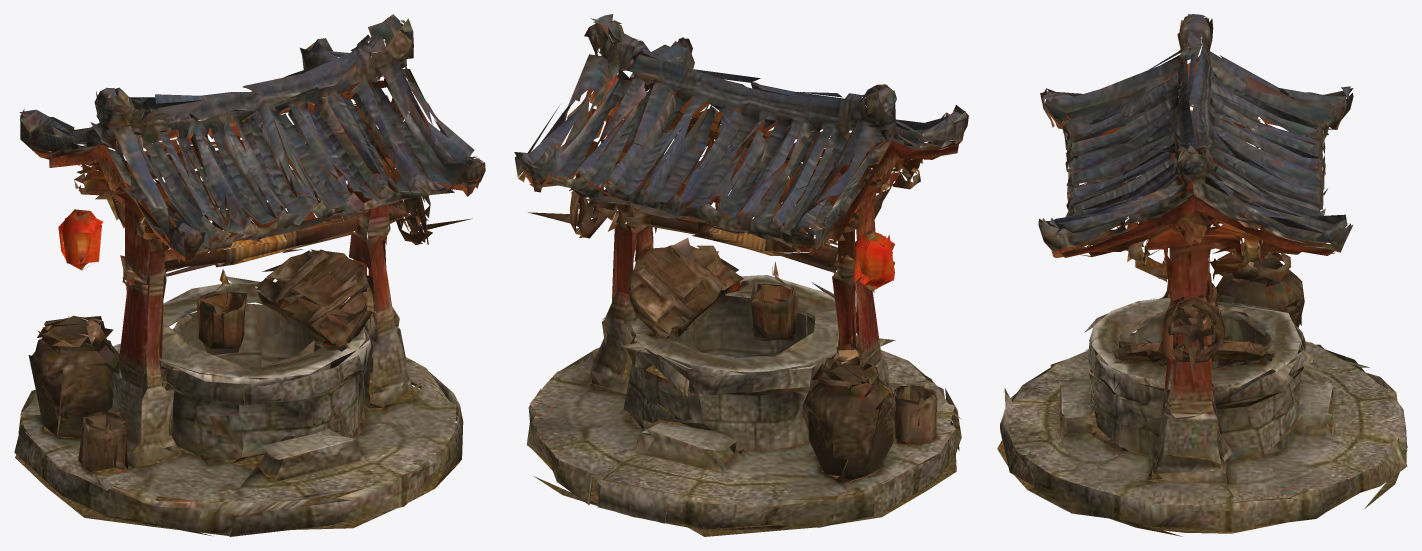
Rendered from poco_lod1.glb.
3 views of the same model, side by side, from view 1: azimuth 30°, elevation 25°; view 2: azimuth 150°, elevation 25°; view 3: azimuth 270°, elevation 25° (orthographic). The views are drawn at different scales.
Parts seen in each view (by area): view 1: poco; view 2: poco; view 3: poco.
Part boxes in pixels (x1,y1,x2,y2): poco: (14, 14, 485, 536); poco: (514, 14, 968, 536); poco: (997, 14, 1407, 536).
Bounding box in the file's own units: 2.78 × 2.53 × 2.51.
1 material, 1 textured.
